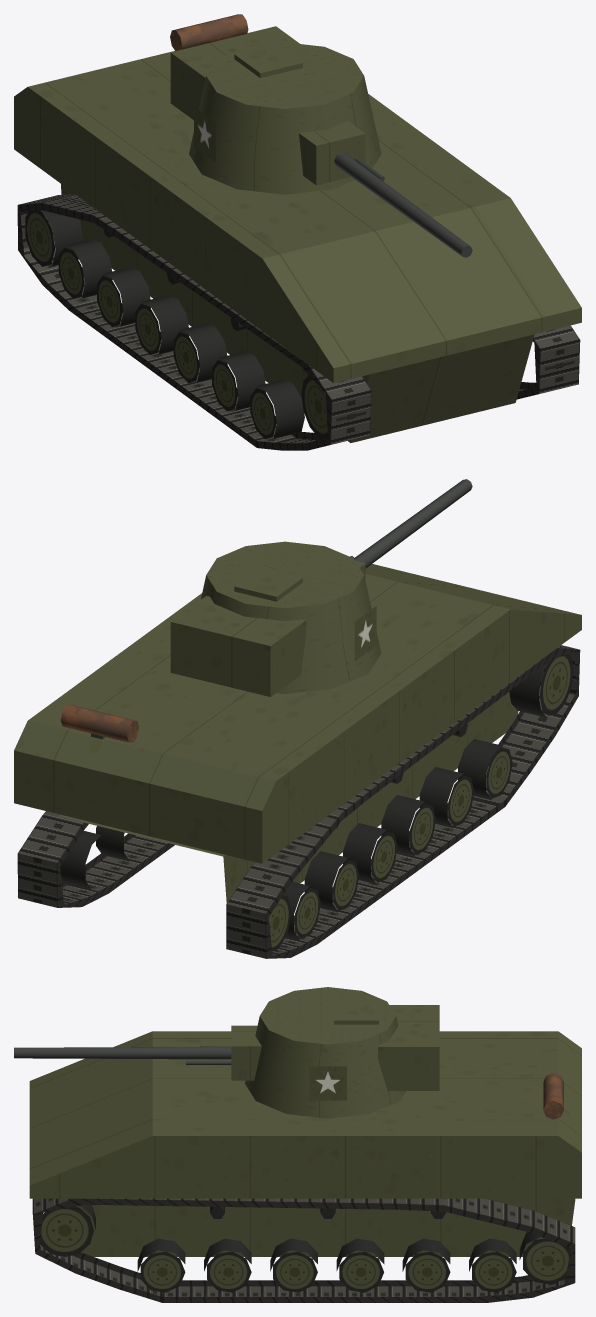
Rendered from armor-2.glb.
3 views of the same model, one above another, from view 1: azimuth 30°, elevation 25°; view 2: azimuth 150°, elevation 25°; view 3: azimuth 270°, elevation 25° (orthographic). The views are drawn at different scales.
Parts seen in each view (by area): view 1: hull, turret, tracks_right, gun, tracks_left, galet_right_6, galet_right_1, galet_right_2, galet_right_3, galet_right_4, galet_right_5, roue_folle_right (+2 smaller); view 2: hull, turret, tracks_right, tracks_left, barbotin_right, galet_right_3, galet_right_6, galet_right_2, galet_right_4, galet_right_5, gun, galet_right_1 (+4 smaller); view 3: hull, turret, tracks_left, gun, barbotin_left, galet_left_2, galet_left_6, galet_left_3, galet_left_4, galet_left_5, galet_left_1, roue_folle_left (+1 smaller).
Part boxes in pixels (box(x1,y1,x2,y2)): hull: box(14, 14, 581, 442); turret: box(170, 28, 381, 194); tracks_right: box(17, 194, 371, 450); gun: box(299, 121, 472, 257); tracks_left: box(516, 325, 580, 399); galet_right_6: box(250, 379, 304, 440); galet_right_1: box(58, 239, 112, 299); galet_right_2: box(97, 267, 150, 327); galet_right_3: box(135, 295, 189, 356); galet_right_4: box(173, 323, 227, 384); galet_right_5: box(212, 351, 265, 411); roue_folle_right: box(25, 210, 83, 268); hull: box(14, 564, 581, 902); turret: box(170, 541, 381, 696); tracks_right: box(226, 645, 580, 958); tracks_left: box(17, 811, 174, 907); barbotin_right: box(509, 654, 573, 717); galet_right_3: box(343, 823, 397, 884); galet_right_6: box(458, 739, 512, 799); galet_right_2: box(304, 851, 359, 912); galet_right_4: box(381, 795, 435, 856); galet_right_5: box(419, 767, 474, 828); gun: box(350, 479, 472, 580); galet_right_1: box(283, 881, 320, 940); hull: box(29, 1031, 581, 1256); turret: box(245, 987, 439, 1118); tracks_left: box(32, 1198, 575, 1302); gun: box(14, 1025, 261, 1080); barbotin_left: box(40, 1204, 95, 1256); galet_left_2: box(402, 1238, 450, 1292); galet_left_6: box(137, 1238, 185, 1292); galet_left_3: box(336, 1238, 384, 1292); galet_left_4: box(270, 1238, 317, 1292); galet_left_5: box(204, 1238, 251, 1292); galet_left_1: box(469, 1238, 516, 1292); roue_folle_left: box(519, 1232, 570, 1284).
Bounding box in the file's own units: 2.62 × 2.79 × 6.01.
5 materials, 5 textured.
